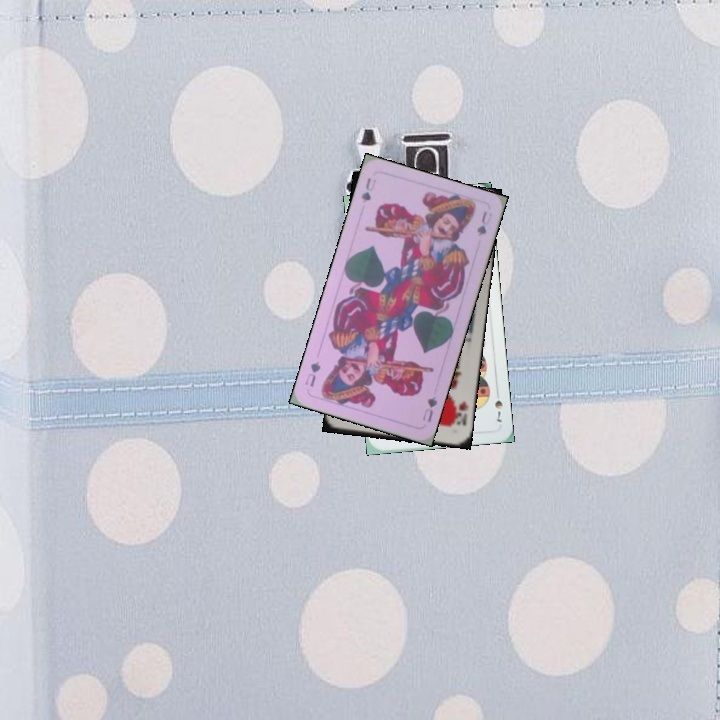GU: (418, 392, 440, 424), (357, 174, 379, 205)
HK: (448, 395, 470, 430)
S7: (491, 396, 505, 425)
